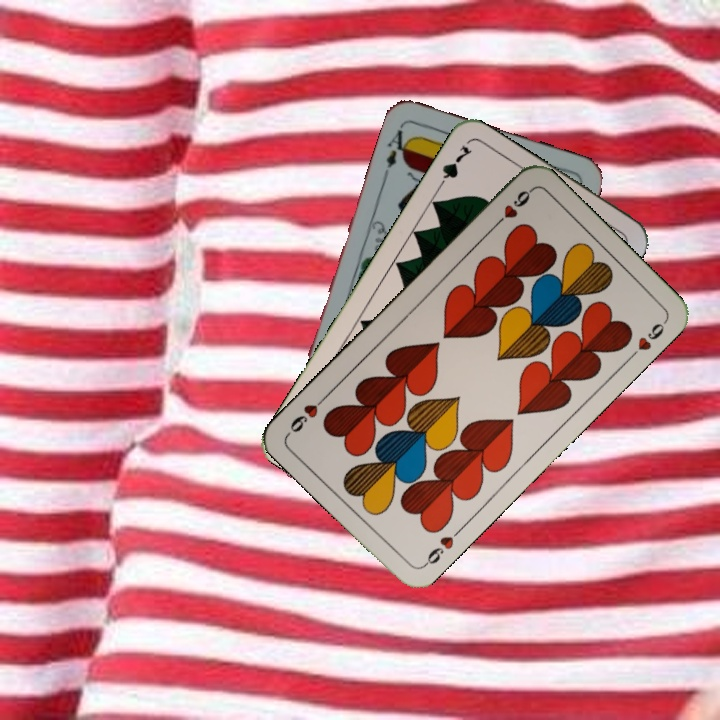EA: (380, 120, 414, 178)
G7: (432, 141, 475, 194)
H9: (489, 185, 535, 231), (419, 524, 465, 570)
